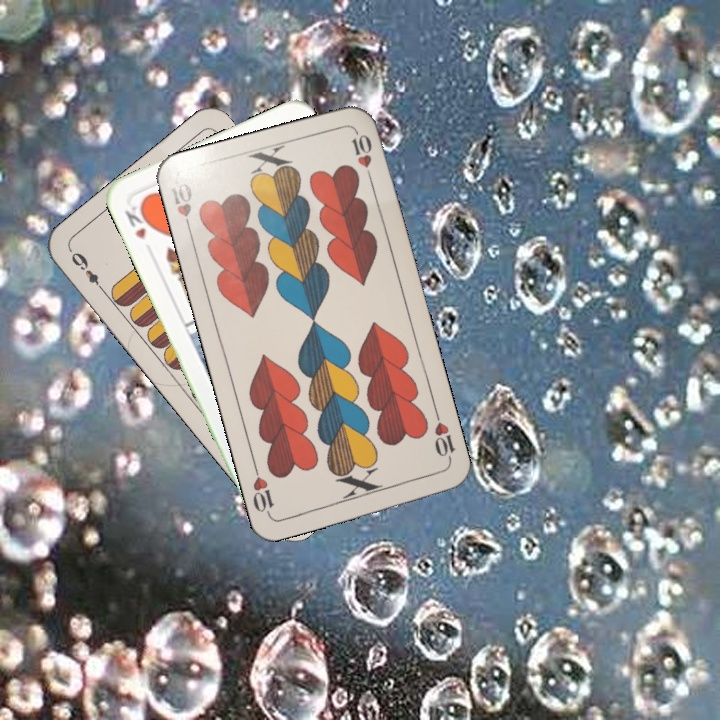E9: (66, 246, 108, 296)
H10: (430, 408, 458, 466), (167, 179, 195, 236)
HK: (120, 199, 155, 243)
